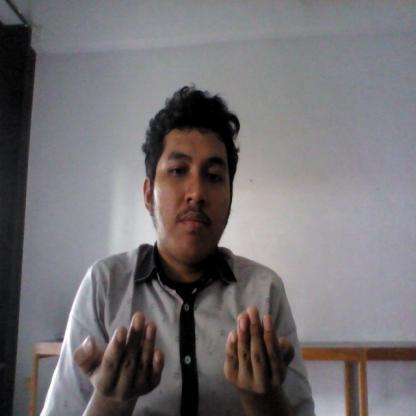Apa: (67, 308, 318, 408)
